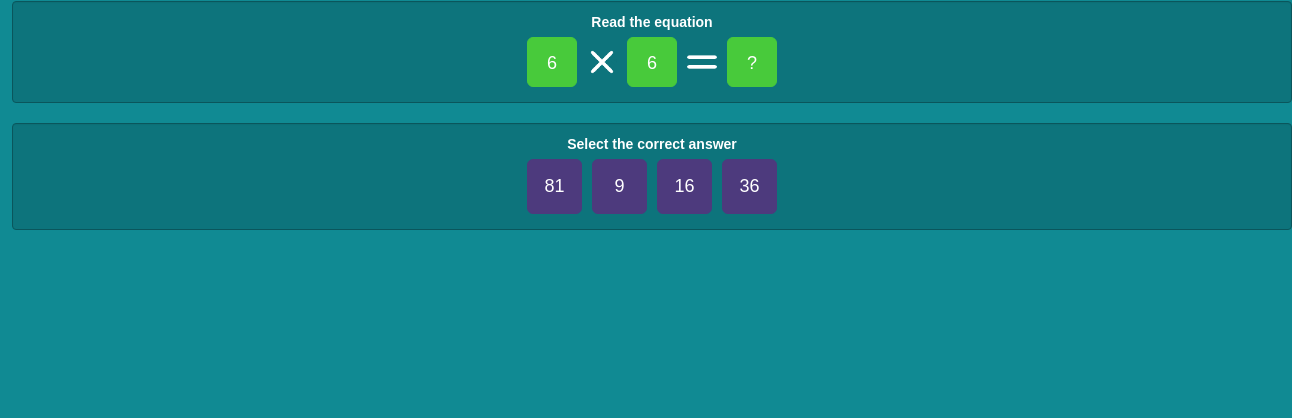
QuestionForm › failure after selecting wrong answer
This screenshot has width=1292, height=418.
Click the button "81" at (554, 186), box [527, 159, 582, 214]
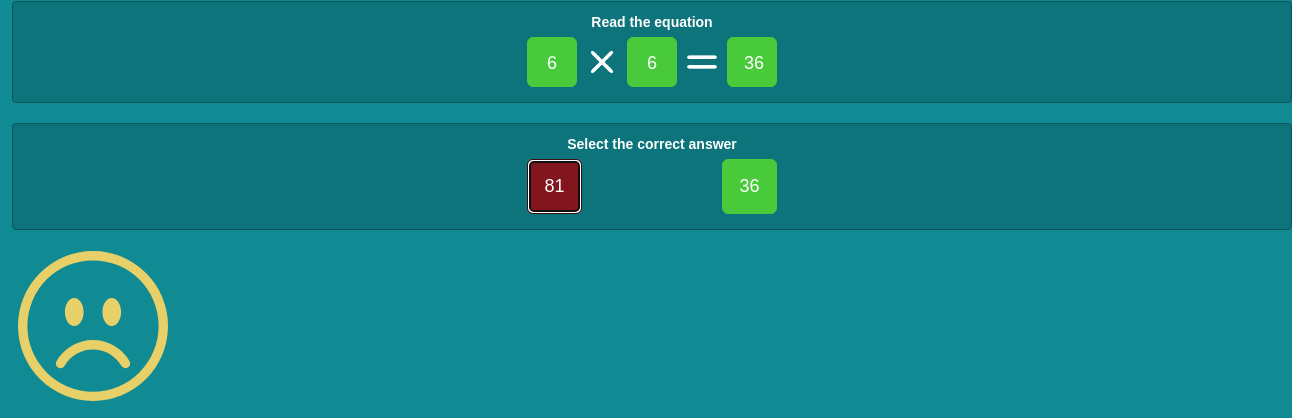
Check: the picture named "Oh no!" is shown, box [18, 251, 168, 401]
